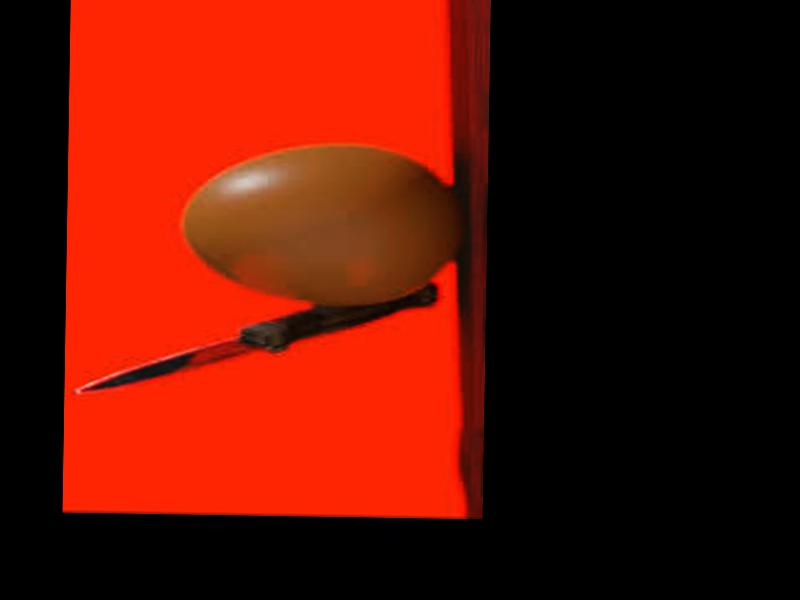Eggs: (183, 143, 458, 306)
